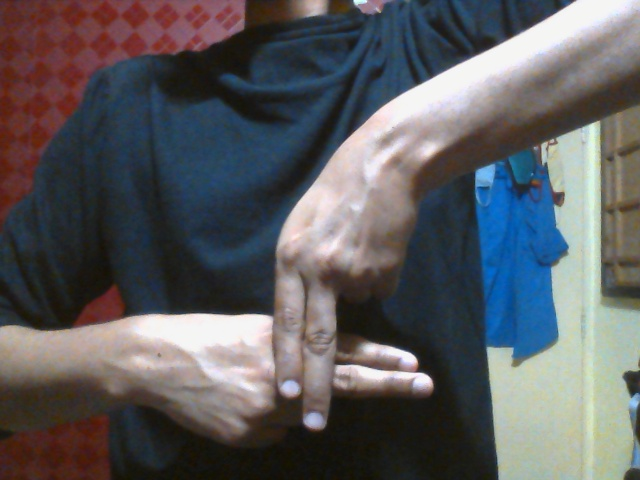F: (139, 162, 434, 451)
